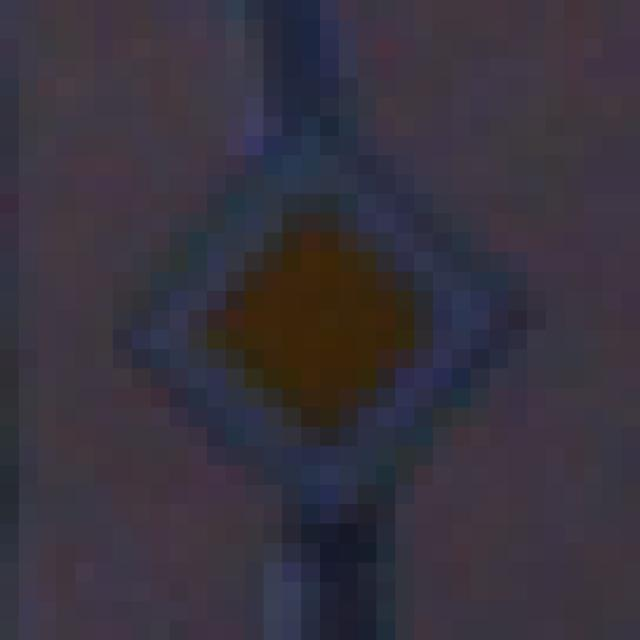Main Road: (95, 98, 547, 544)
